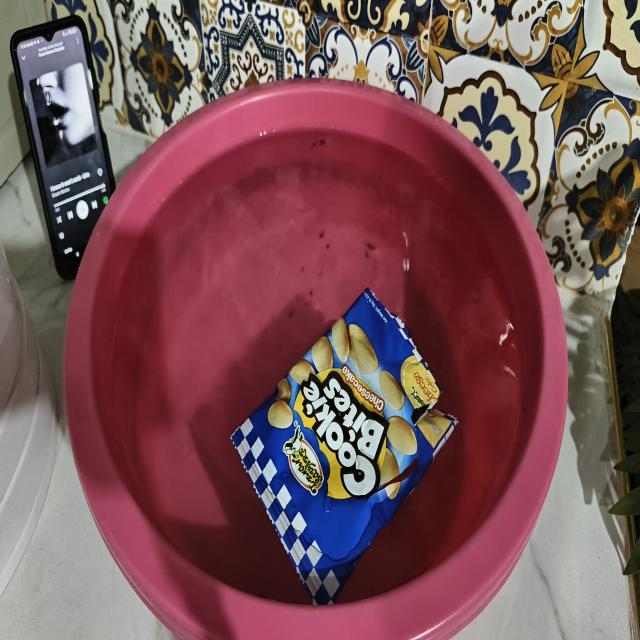Plastic Wrapper: (212, 261, 486, 633)
